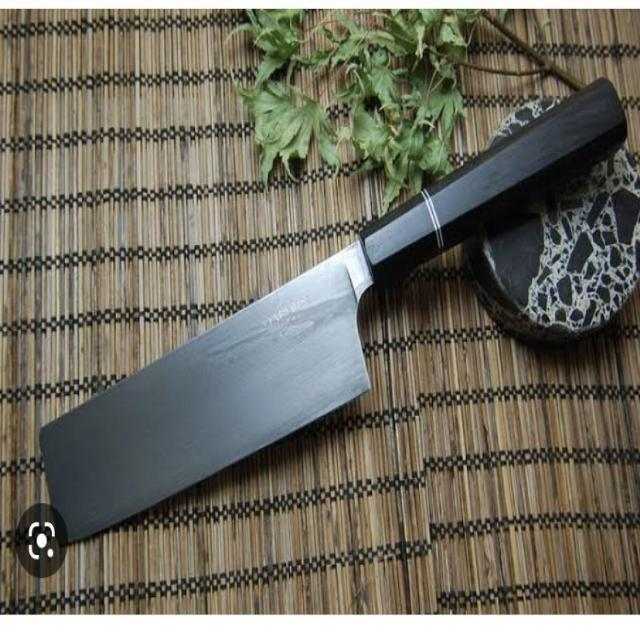Knife: (40, 77, 626, 550)
